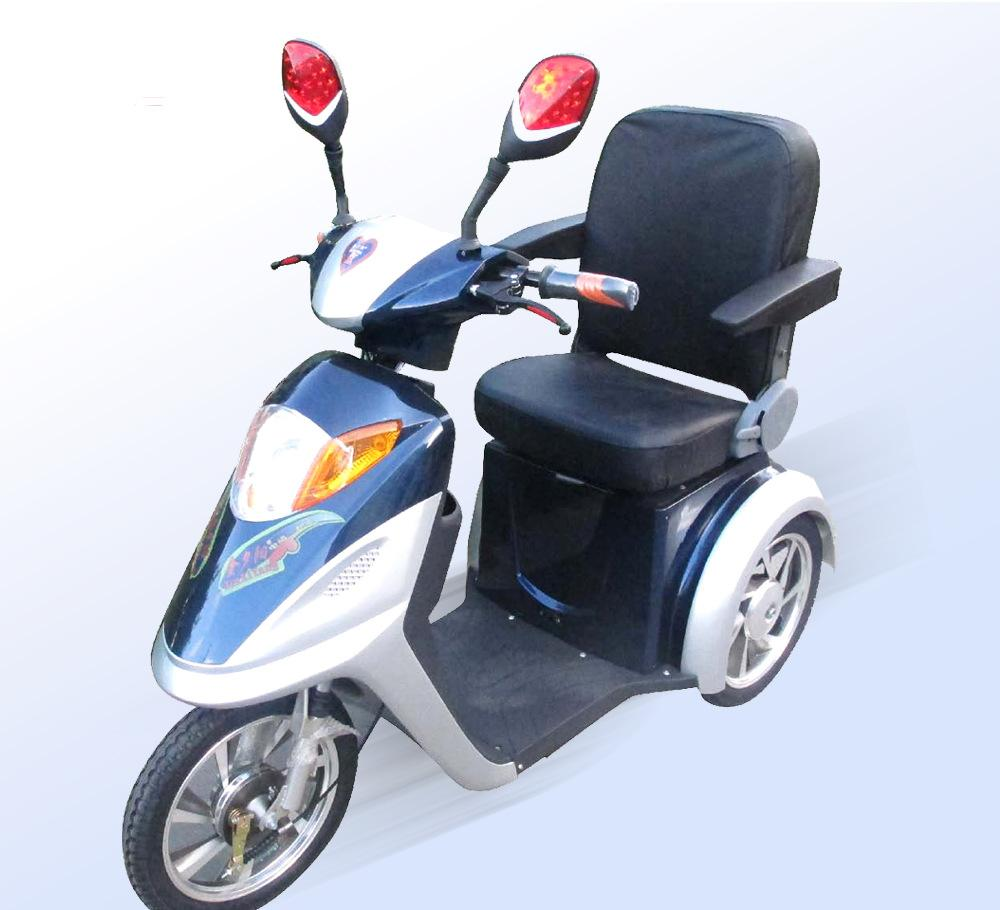电动车: (103, 27, 855, 909)
